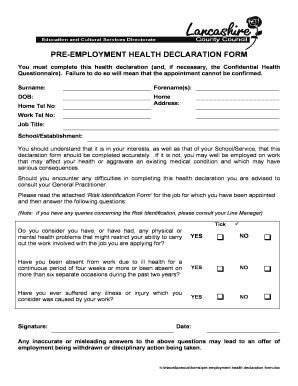checkbox: (215, 263, 226, 274), (262, 263, 273, 274), (262, 291, 273, 302), (215, 291, 227, 301), (215, 232, 226, 242), (263, 232, 274, 242)
textline: (61, 123, 282, 132), (85, 134, 284, 143), (49, 323, 175, 336), (203, 323, 283, 336), (61, 82, 153, 93), (61, 93, 153, 103), (193, 92, 284, 102), (62, 112, 153, 121), (193, 83, 284, 92), (193, 102, 283, 111), (193, 113, 282, 121), (61, 104, 152, 111)
